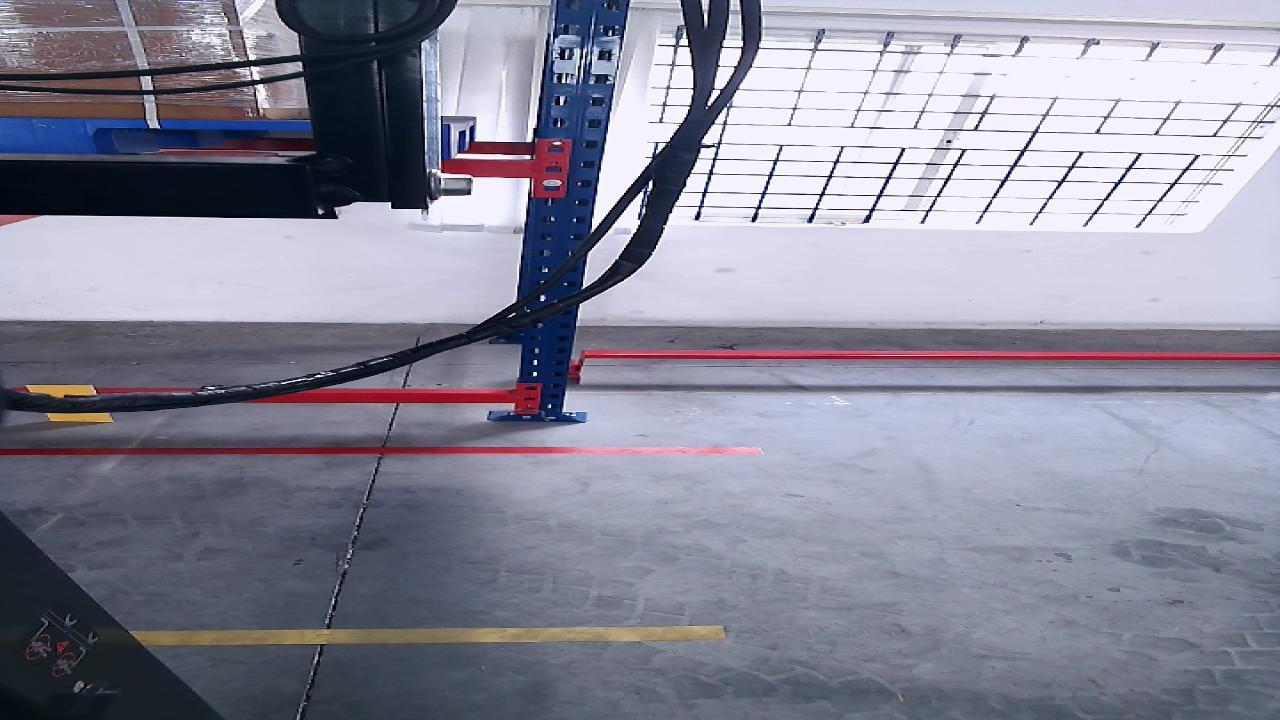red_line: (1, 446, 761, 455)
small_pallet: (0, 117, 450, 159)
yellow_line: (130, 624, 728, 644)
